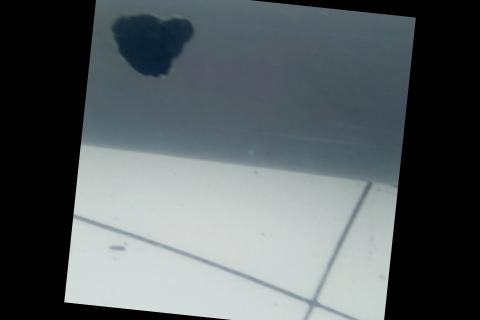kebocoran: (104, 7, 198, 81)
